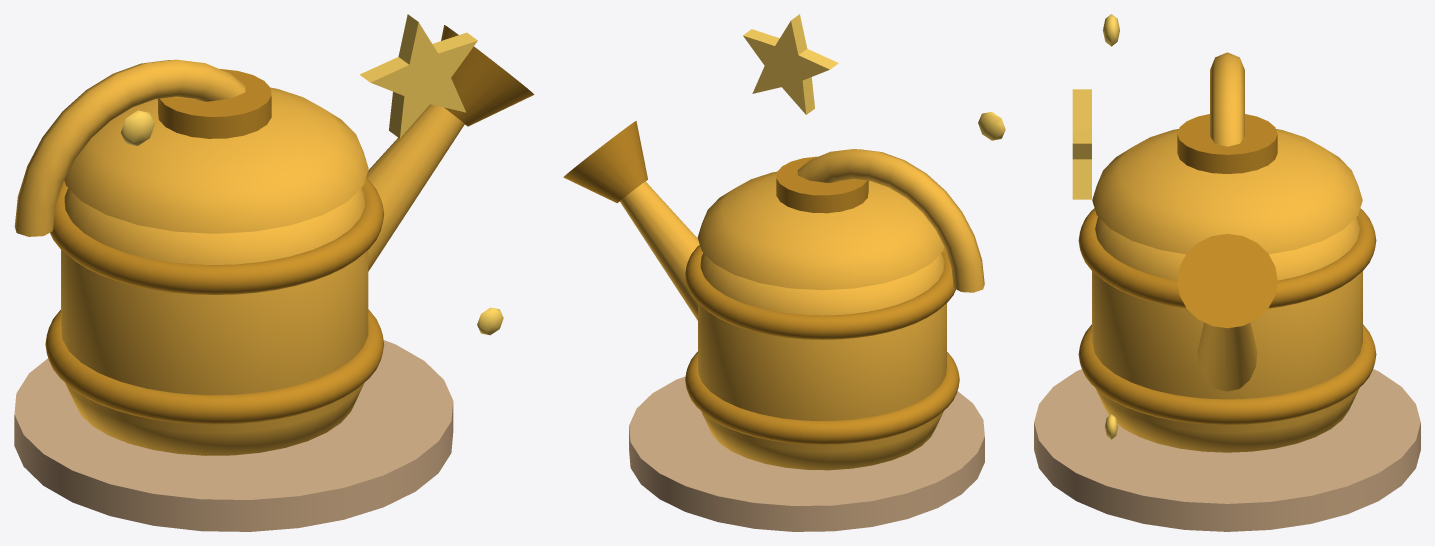
File: album_giesskanne.glb
3 renders of one model, left to right at view 1: azimuth 30°, elevation 25°; view 2: azimuth 150°, elevation 25°; view 3: azimuth 270°, elevation 25°, orthographic. The views are drawn at different scales.
Parts seen in each view (by area): view 1: album_giesskanne; view 2: album_giesskanne; view 3: album_giesskanne.
Part boxes in pixels (box(x1,y1,x2,y2)): album_giesskanne: box(14, 14, 534, 531); album_giesskanne: box(563, 14, 1005, 531); album_giesskanne: box(1034, 14, 1420, 531).
Bounding box in the file's own units: 0.533 × 0.4594 × 0.4.
